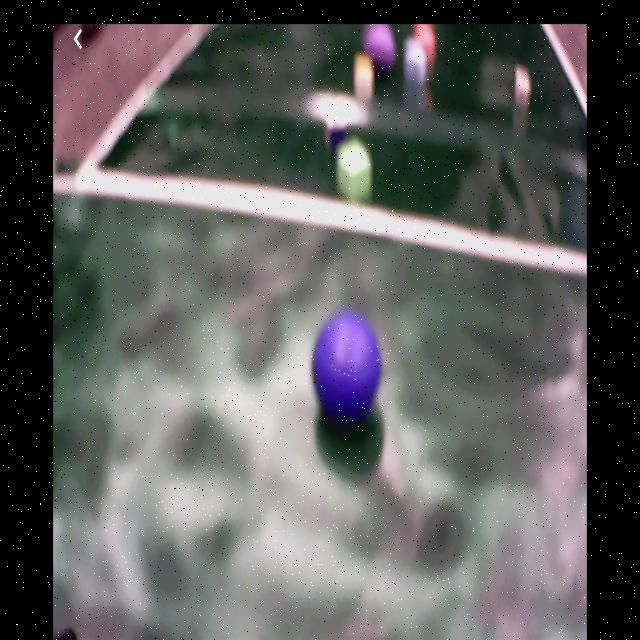ball: (315, 313, 383, 417), (364, 25, 396, 68)
